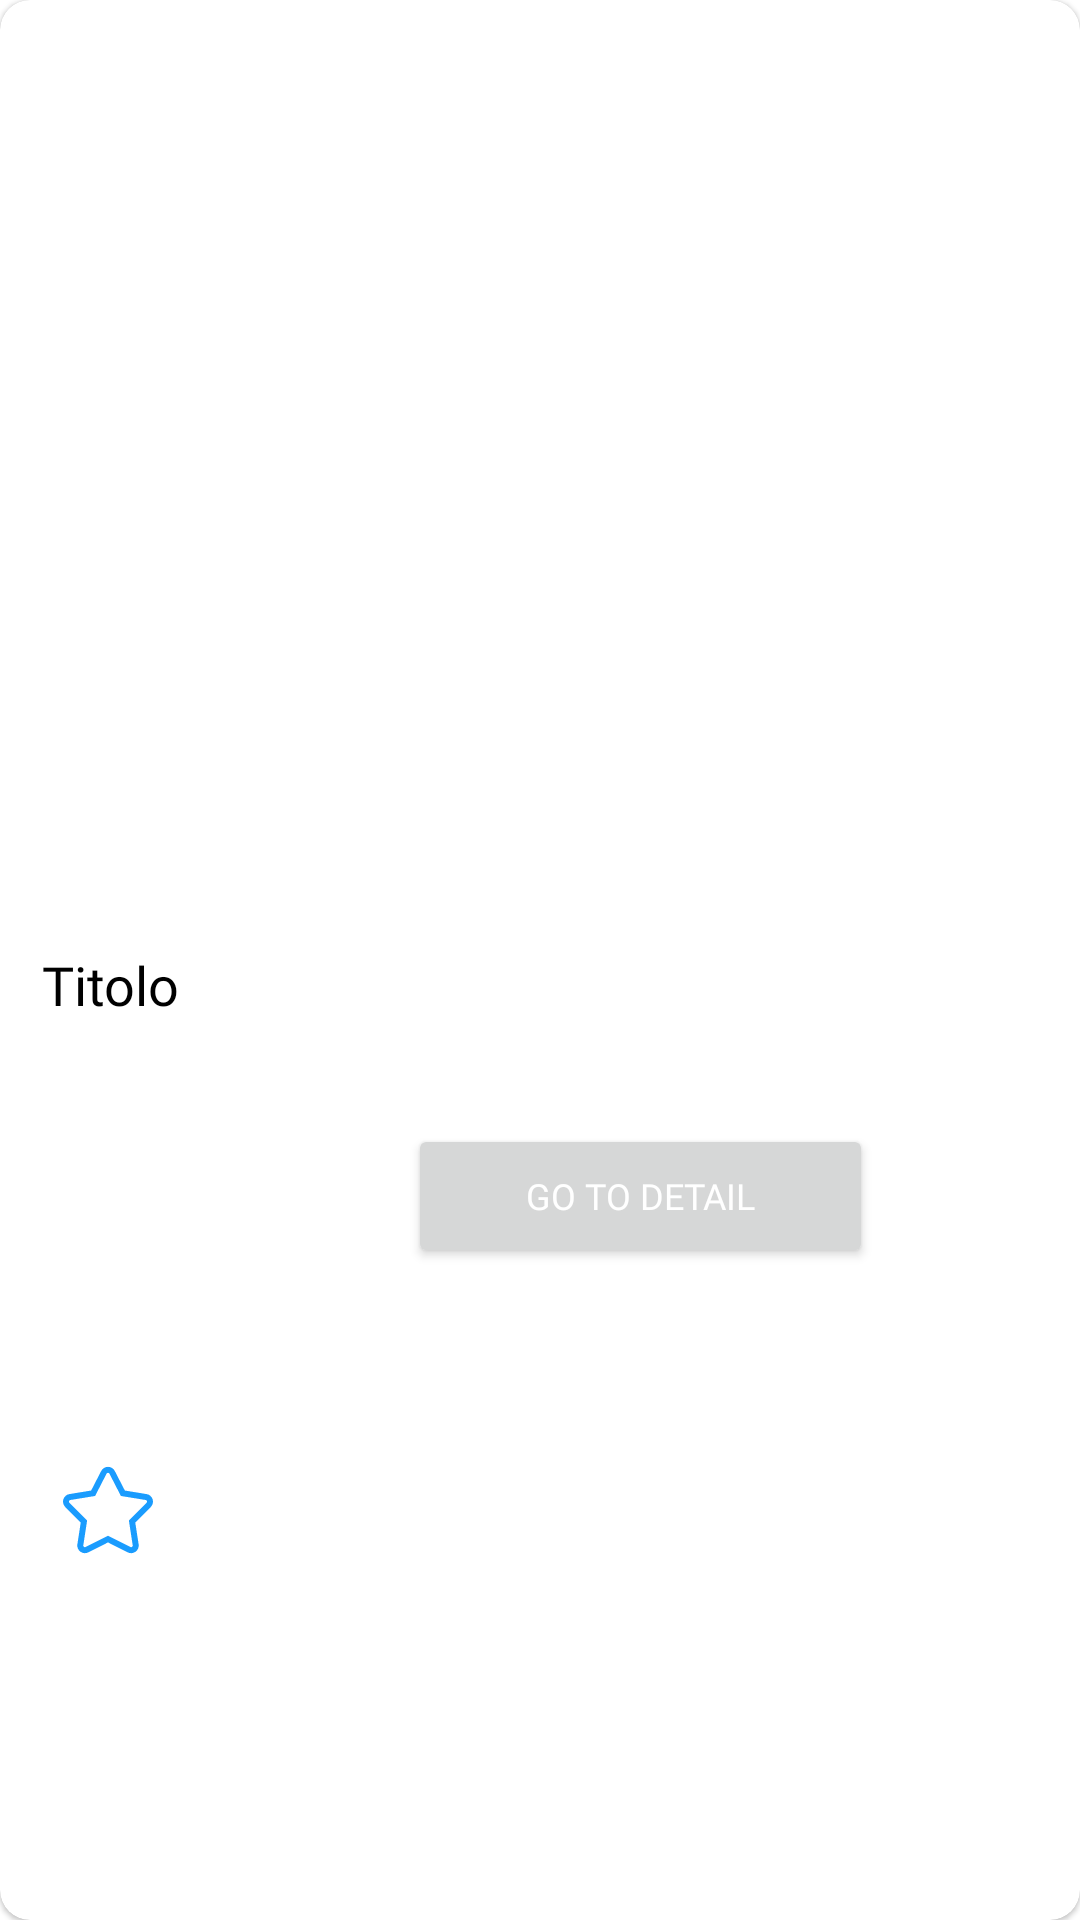

Screen size 1080px x 1920px. Icon name, then its box in pixels as (x1, y1, x2, y2):
fav off: (63, 1467, 153, 1554)
